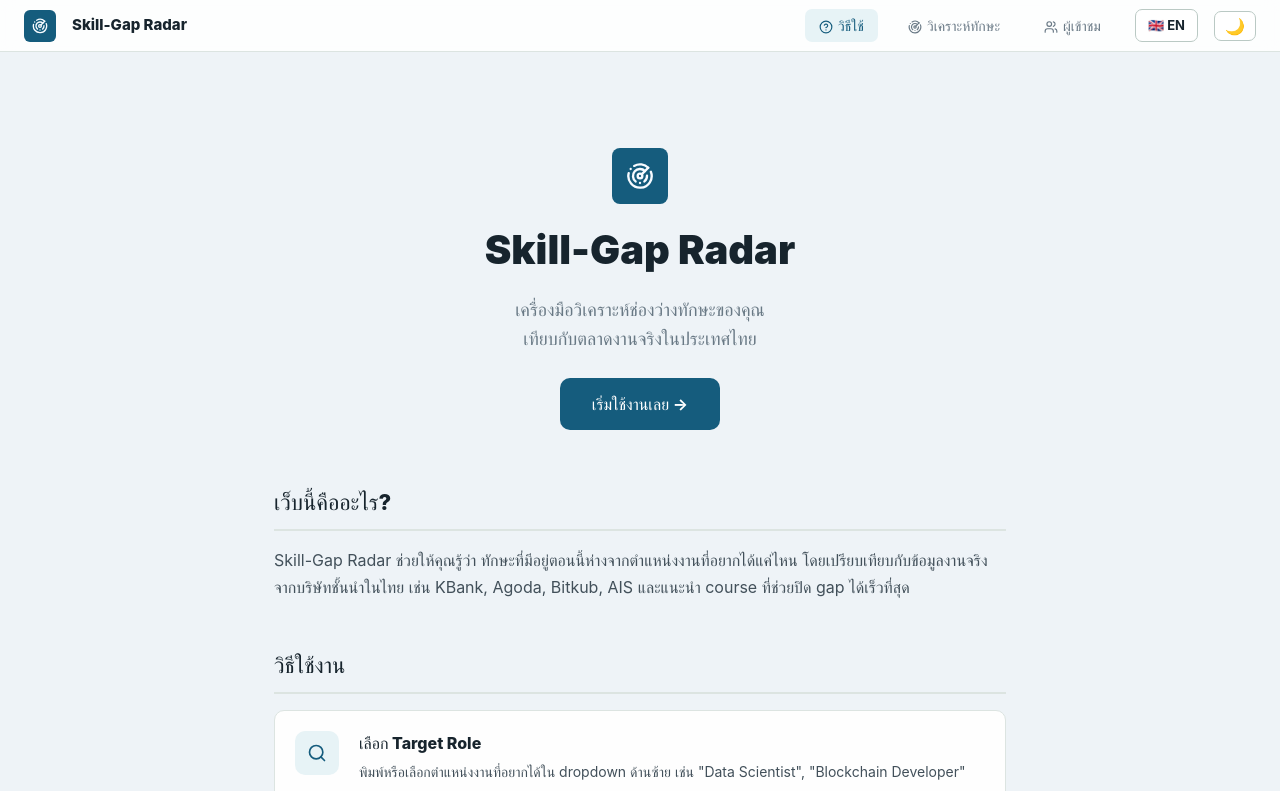
App › changes nav text from Thai to English when language is toggled
The image size is (1280, 791).
Expected: the button "วิธีใช้" is shown, [805,9,878,42]
Click the button with aria-label "Switch language" at (1166, 26), box [1135,9,1198,42]
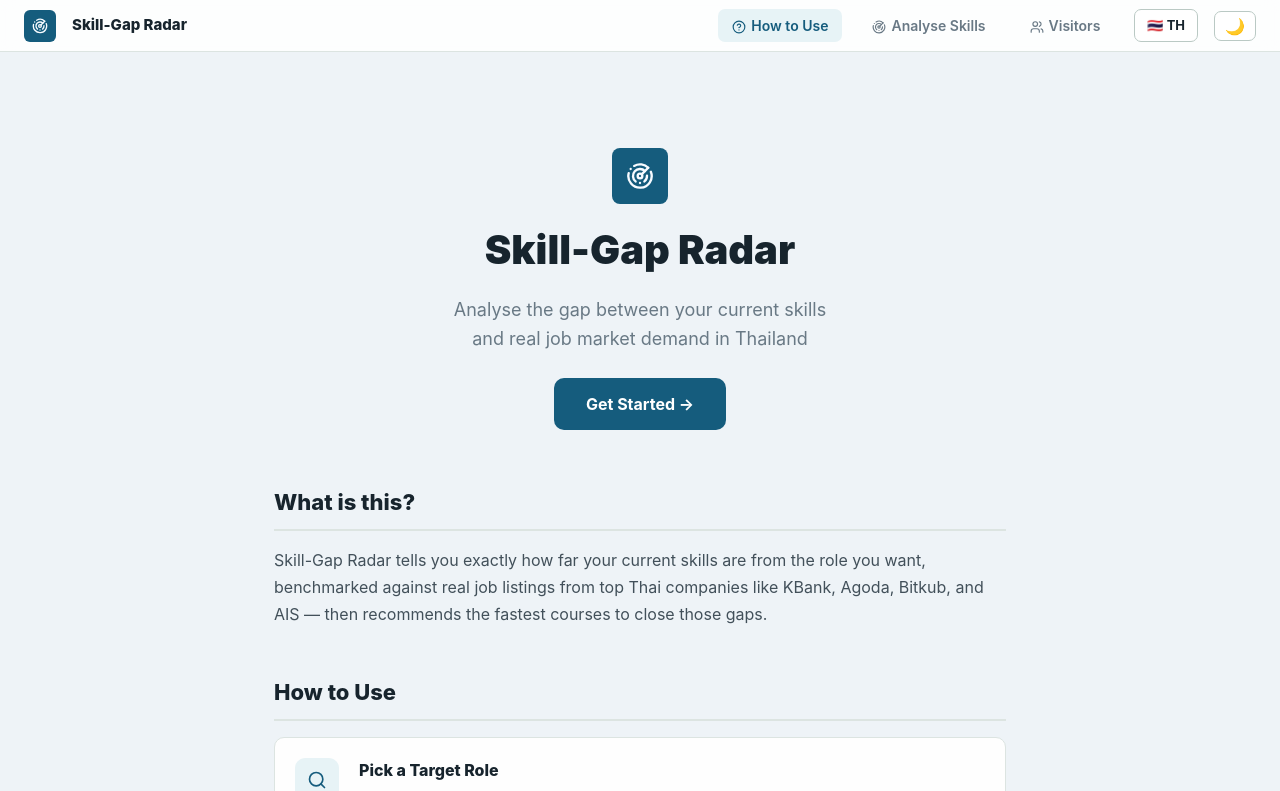
Expected: the button "How to Use" is shown, [718,9,842,42]
Expected: the button "Analyse Skills" is shown, [858,9,1000,42]
